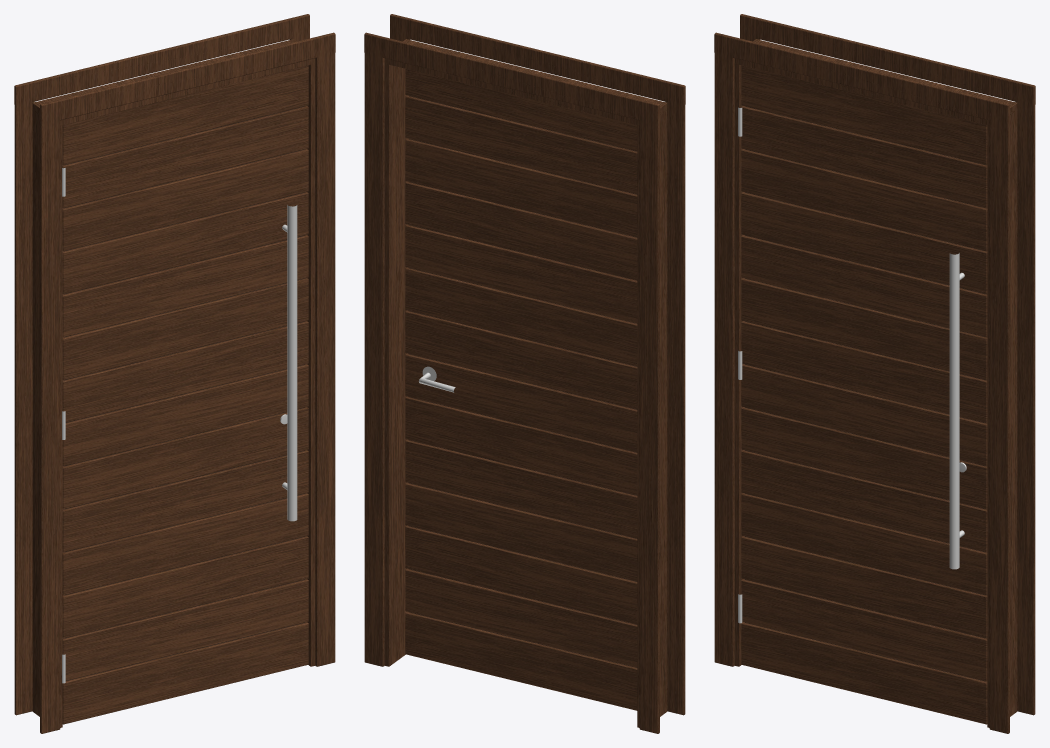
File: door_entry_90.glb
3 renders of one model, left to right at view 1: azimuth 30°, elevation 25°; view 2: azimuth 150°, elevation 25°; view 3: azimuth 330°, elevation 25°, orthographic.
Parts seen in each view (by area): view 1: tapajuntas, tapajuntas.001, tapajuntas.002, lama_2, lama_11, lama_0, lama_1, lama_12, lama_3, lama_10, lama_8, lama_9 (+12 smaller); view 2: tapajuntas.002, tapajuntas.003, jamba.001, tapajuntas, lama_12, lama_9, lama_11, lama_0, lama_1, lama_4, lama_8, lama_10 (+11 smaller); view 3: tapajuntas.001, tapajuntas, tapajuntas.003, lama_0, lama_2, lama_11, lama_1, lama_12, lama_3, lama_10, lama_8, lama_9 (+12 smaller).
Part boxes in pixels (left/top/right/bottom): tapajuntas: left=40, top=101, right=60, bottom=733; tapajuntas.001: left=315, top=34, right=335, bottom=666; tapajuntas.002: left=14, top=82, right=34, bottom=715; lama_2: left=62, top=536, right=308, bottom=638; lama_11: left=62, top=149, right=308, bottom=251; lama_0: left=62, top=622, right=308, bottom=724; lama_1: left=62, top=579, right=308, bottom=680; lama_12: left=62, top=106, right=308, bottom=208; lama_3: left=62, top=493, right=308, bottom=595; lama_10: left=62, top=192, right=308, bottom=294; lama_8: left=62, top=278, right=308, bottom=380; lama_9: left=62, top=235, right=308, bottom=337; tapajuntas.002: left=639, top=101, right=659, bottom=733; tapajuntas.003: left=364, top=34, right=384, bottom=666; jamba.001: left=384, top=39, right=411, bottom=666; tapajuntas: left=665, top=82, right=685, bottom=715; lama_12: left=405, top=95, right=637, bottom=194; lama_9: left=405, top=224, right=637, bottom=323; lama_11: left=405, top=138, right=637, bottom=237; lama_0: left=405, top=611, right=637, bottom=710; lama_1: left=405, top=568, right=637, bottom=667; lama_4: left=405, top=439, right=637, bottom=538; lama_8: left=405, top=267, right=637, bottom=366; lama_10: left=405, top=181, right=637, bottom=280; tapajuntas.001: left=989, top=101, right=1009, bottom=733; tapajuntas: left=714, top=34, right=734, bottom=666; tapajuntas.003: left=1015, top=82, right=1035, bottom=715; lama_0: left=741, top=622, right=987, bottom=724; lama_2: left=741, top=536, right=987, bottom=638; lama_11: left=741, top=149, right=987, bottom=251; lama_1: left=741, top=579, right=987, bottom=681; lama_12: left=741, top=106, right=987, bottom=208; lama_3: left=741, top=493, right=987, bottom=595; lama_10: left=741, top=192, right=987, bottom=294; lama_8: left=741, top=278, right=987, bottom=380; lama_9: left=741, top=235, right=987, bottom=337.
Size of the model in its own units: 1.08 by 2.2 by 0.223.
3 materials, 1 textured.
